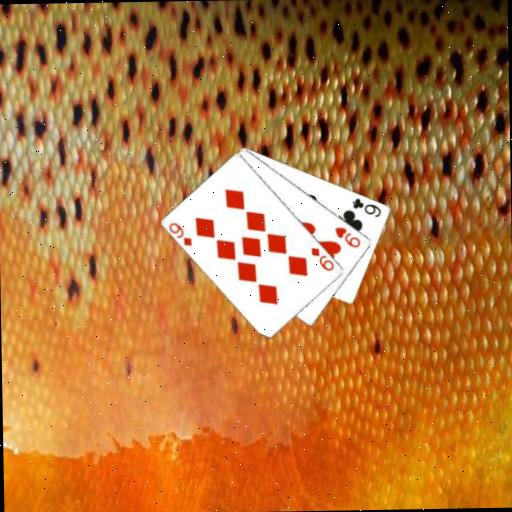6C: (350, 194, 383, 219)
9D: (166, 219, 194, 248), (309, 244, 336, 273)
9H: (332, 224, 362, 250)
